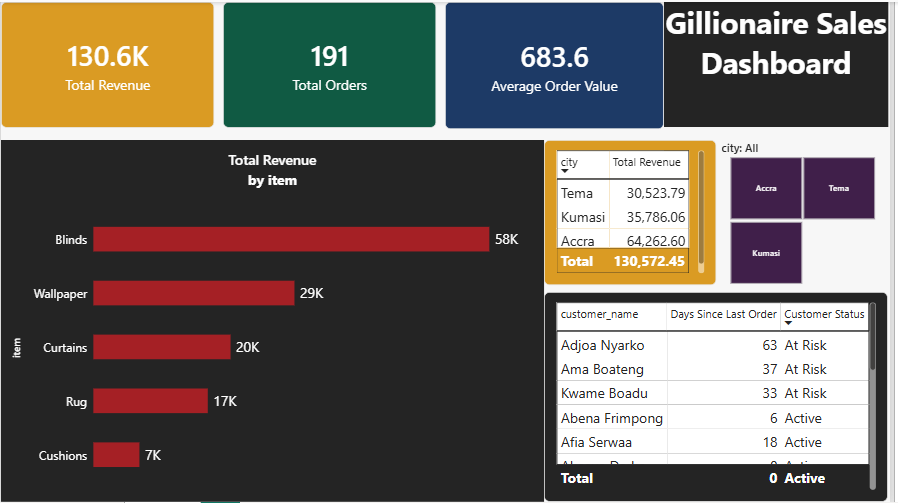

This screenshot's page, from the dashboard's own definition file:
{"tool":"powerbi","page":{"name":"Page 1","canvas":[1280,720],"ordinal":0},"visuals":[{"type":"card","fields":{"Values":["gillionaire_capstone_cleaned.Total Revenue"]},"box":[0,0,307.5,180.6],"z":0},{"type":"card","fields":{"Values":["gillionaire_capstone_cleaned.Total Orders"]},"box":[320,0,307.5,180.6],"z":1},{"type":"card","fields":{"Values":["gillionaire_capstone_cleaned.Average Order Value"]},"box":[639.4,0,315.4,182.9],"z":2},{"type":"barChart","fields":{"Category":["gillionaire_capstone_cleaned.item"],"Y":["gillionaire_capstone_cleaned.Total Revenue"]},"box":[0,198.7,781.9,521.3],"z":3},{"type":"tableEx","fields":{"Values":["gillionaire_capstone_cleaned.city","gillionaire_capstone_cleaned.Total Revenue"]},"box":[781.9,198.7,247.7,208.8],"z":4},{"type":"slicer","fields":{"Values":["gillionaire_capstone_cleaned.city"]},"box":[1029.6,198.7,247.7,208.8],"z":5},{"type":"textbox","box":[954.7,0,322.6,180],"z":6},{"type":"tableEx","fields":{"Values":["gillionaire_capstone_cleaned.customer_name","gillionaire_capstone_cleaned.Days Since Last Order","gillionaire_capstone_cleaned.Customer Status"]},"box":[781.9,417.6,495.4,302.4],"z":7}]}

Visuals, with their boxes in screenshot pixels (x1, y1, x2, y2), scaled from the page's 1280x720 canvas onto the 898x503 screenshot:
card - gillionaire_capstone_cleaned.Total Revenue: 0, 0, 216, 126
card - gillionaire_capstone_cleaned.Total Orders: 224, 0, 440, 126
card - gillionaire_capstone_cleaned.Average Order Value: 449, 0, 670, 128
barChart - gillionaire_capstone_cleaned.item x gillionaire_capstone_cleaned.Total Revenue: 0, 139, 549, 502
tableEx - gillionaire_capstone_cleaned.city x gillionaire_capstone_cleaned.Total Revenue: 549, 139, 722, 285
slicer - gillionaire_capstone_cleaned.city: 722, 139, 896, 285
textbox: 670, 0, 896, 126
tableEx - gillionaire_capstone_cleaned.customer_name x gillionaire_capstone_cleaned.Days Since Last Order: 549, 292, 896, 502
